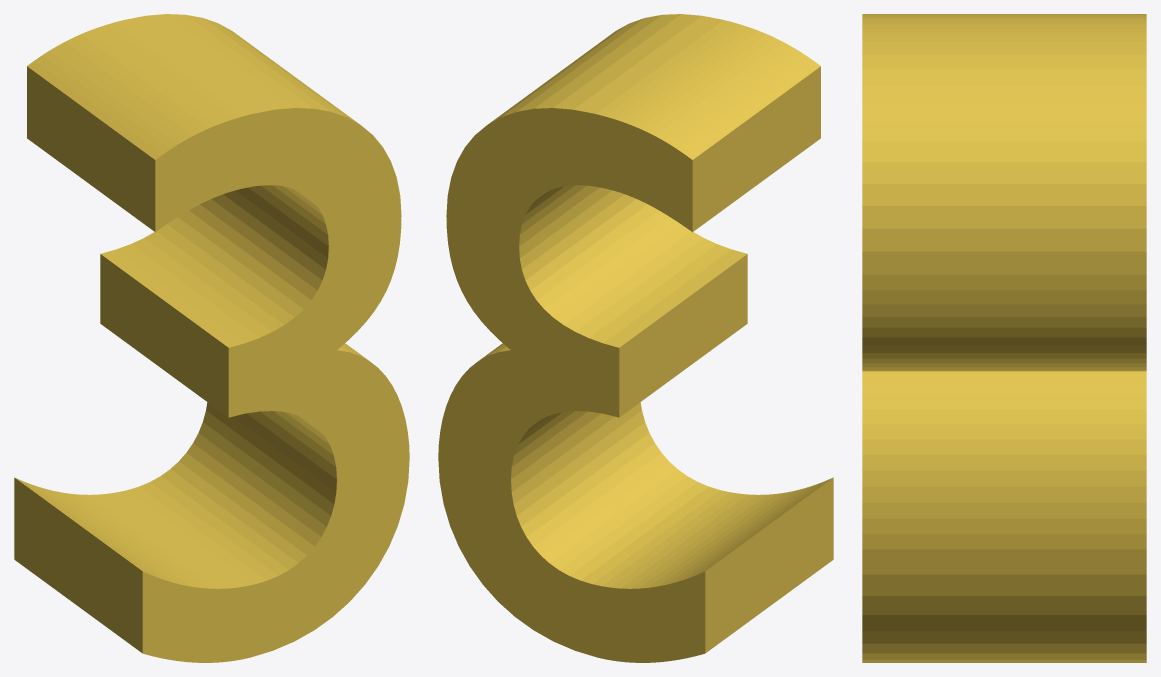
Rendered from Mambo Numba Three.glb.
3 views of the same model, side by side, from view 1: azimuth 30°, elevation 25°; view 2: azimuth 150°, elevation 25°; view 3: azimuth 270°, elevation 25° (orthographic). The views are drawn at different scales.
Parts seen in each view (by area): view 1: Mambo Number 3-col; view 2: Mambo Number 3-col; view 3: Mambo Number 3-col.
Boxes of the visible parts, x1=… form: Mambo Number 3-col: x1=14, y1=14, x2=409, y2=662; Mambo Number 3-col: x1=438, y1=14, x2=833, y2=662; Mambo Number 3-col: x1=862, y1=14, x2=1146, y2=662.
Bounding box in the file's own units: 3.6 × 7 × 3.
